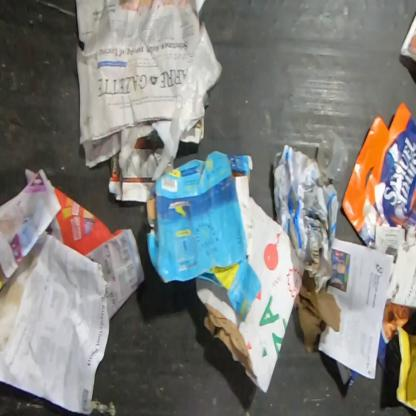cardboard: (195, 176, 305, 395), (146, 150, 262, 322), (340, 100, 416, 250), (108, 134, 164, 202), (377, 298, 416, 379), (335, 360, 361, 387)
rigid_plastic: (316, 128, 350, 184)
soft_plastic: (150, 18, 224, 182)
